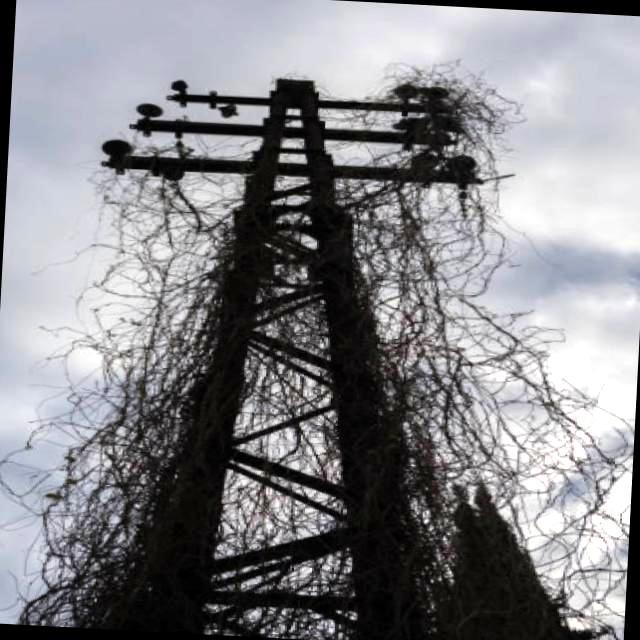critical vegetation: (67, 35, 416, 640), (20, 243, 544, 640), (89, 40, 531, 258), (357, 67, 519, 244)
